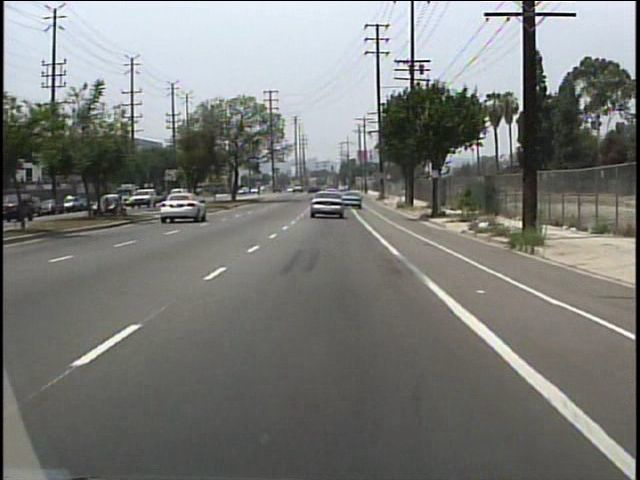person: (66, 193, 76, 214)
